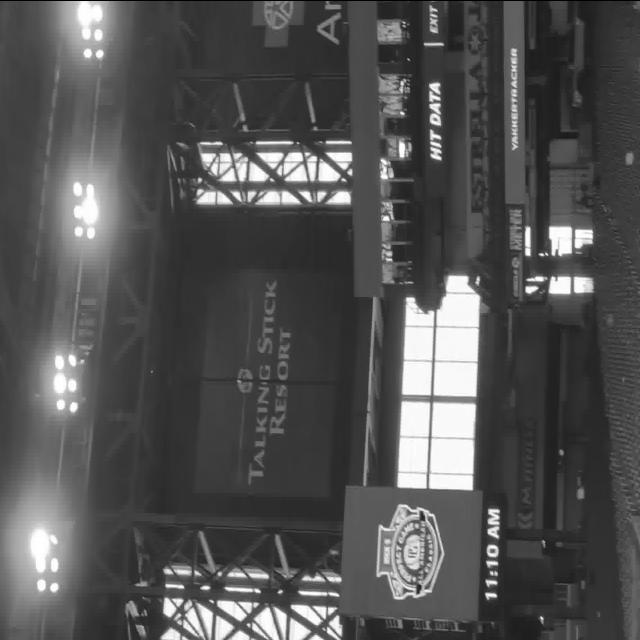baseball_glove: (376, 502, 444, 600)
